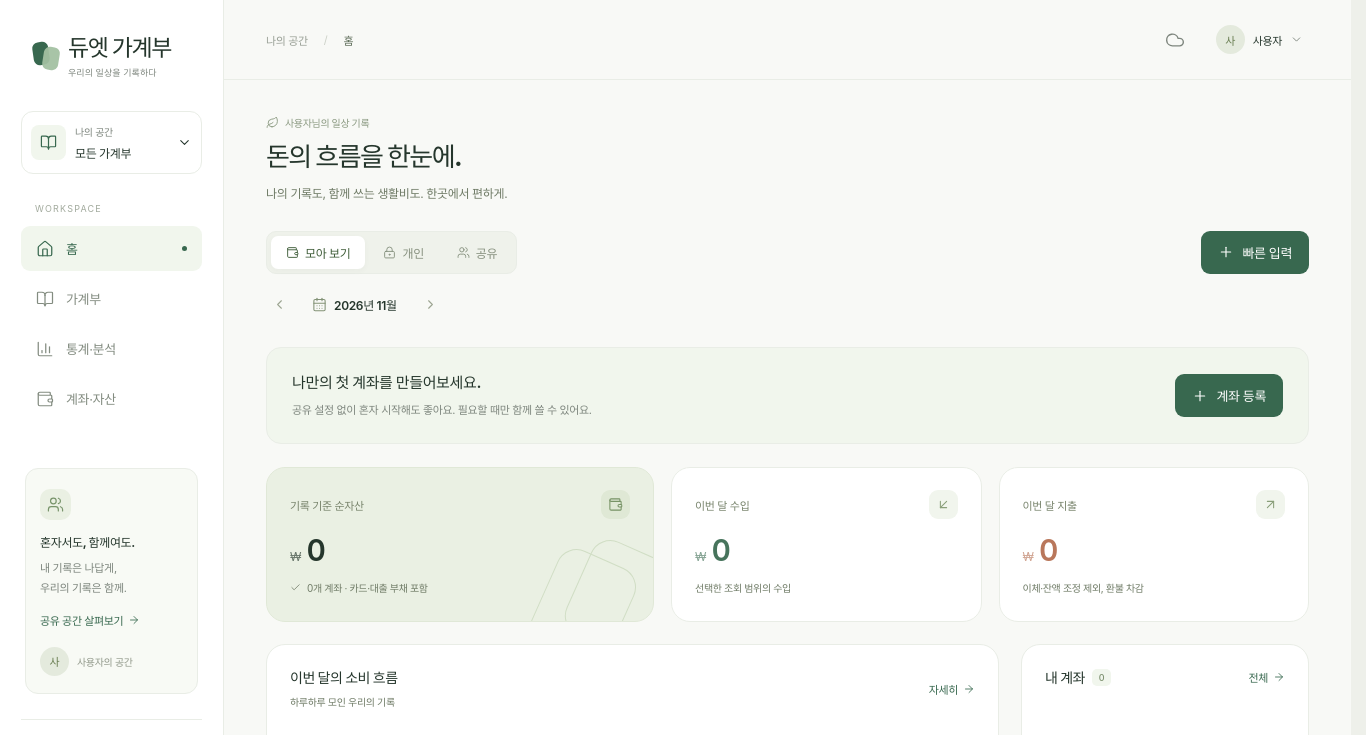
Test: identifies trash in the breadcrumb and headings without the old banner
What coordinates should you click on to do the following:
click the button with aria-label "사용자 메뉴"
I would click on:
 (1259, 40)
Its box is 1210,24 -> 1309,55.
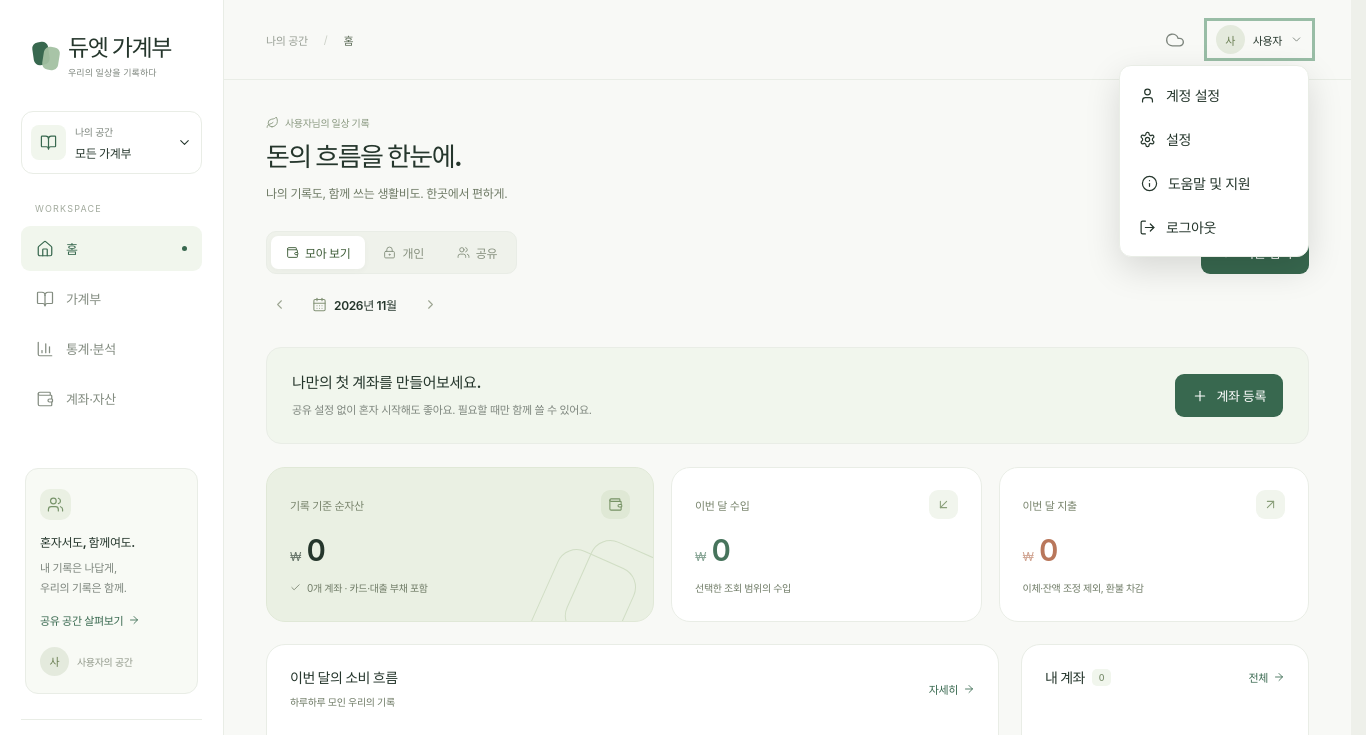
What coordinates should you click on to do the following:
click the button "설정"
I would click on:
 (1214, 139)
Its box is 1127,117 -> 1301,161.
(page scrolled)
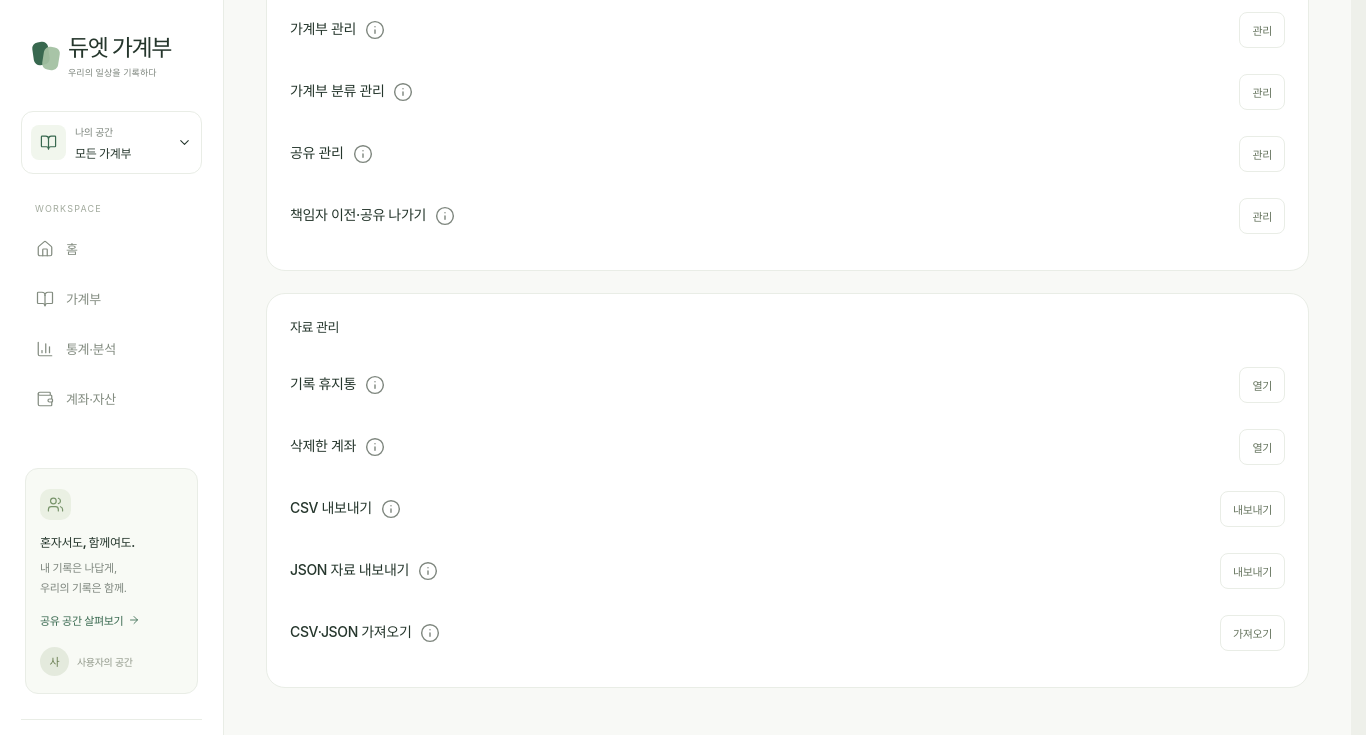
What coordinates should you click on to do the following:
click the button with class "secondary-button" in the row of "기록 휴지통"
I would click on:
 (1262, 385)
Its box is 1240,367 -> 1285,403.
(page scrolled)
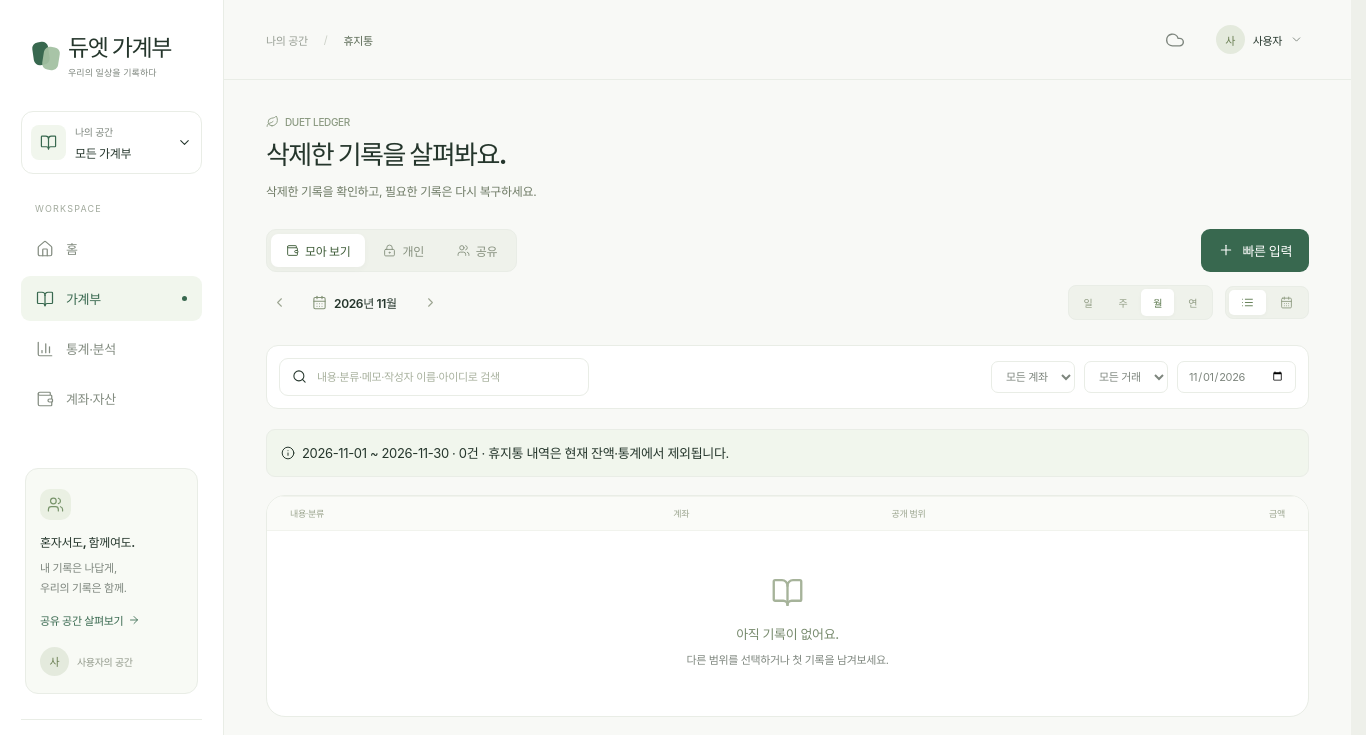
Check: the heading "삭제한 기록을 살펴봐요." is shown, box 266,137 -> 536,172
Check: the text "휴지통" is shown, box 344,32 -> 373,48
What coordinates should you click on to do the following:
click the button "가계부"
I would click on:
 (112, 299)
Its box is 21,276 -> 202,321.
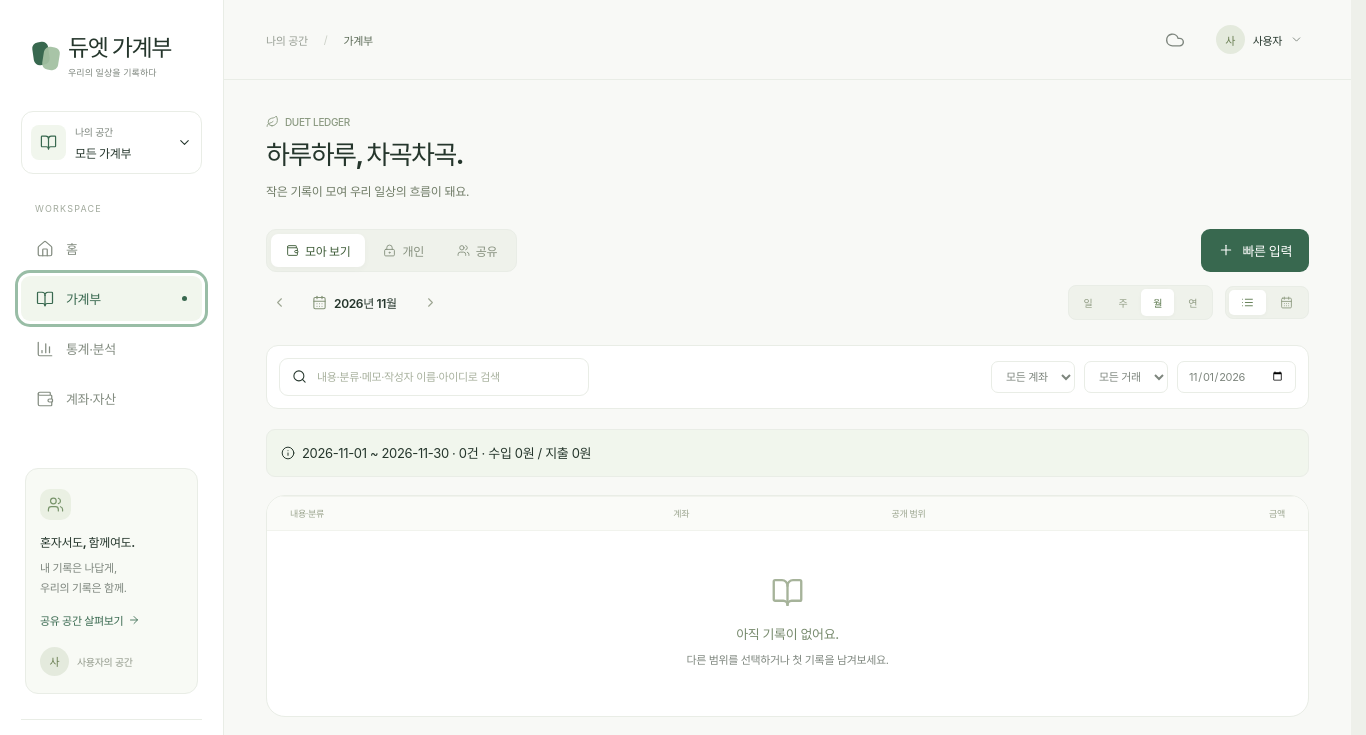
Check: the heading "하루하루, 차곡차곡." is shown, box 266,137 -> 469,172
